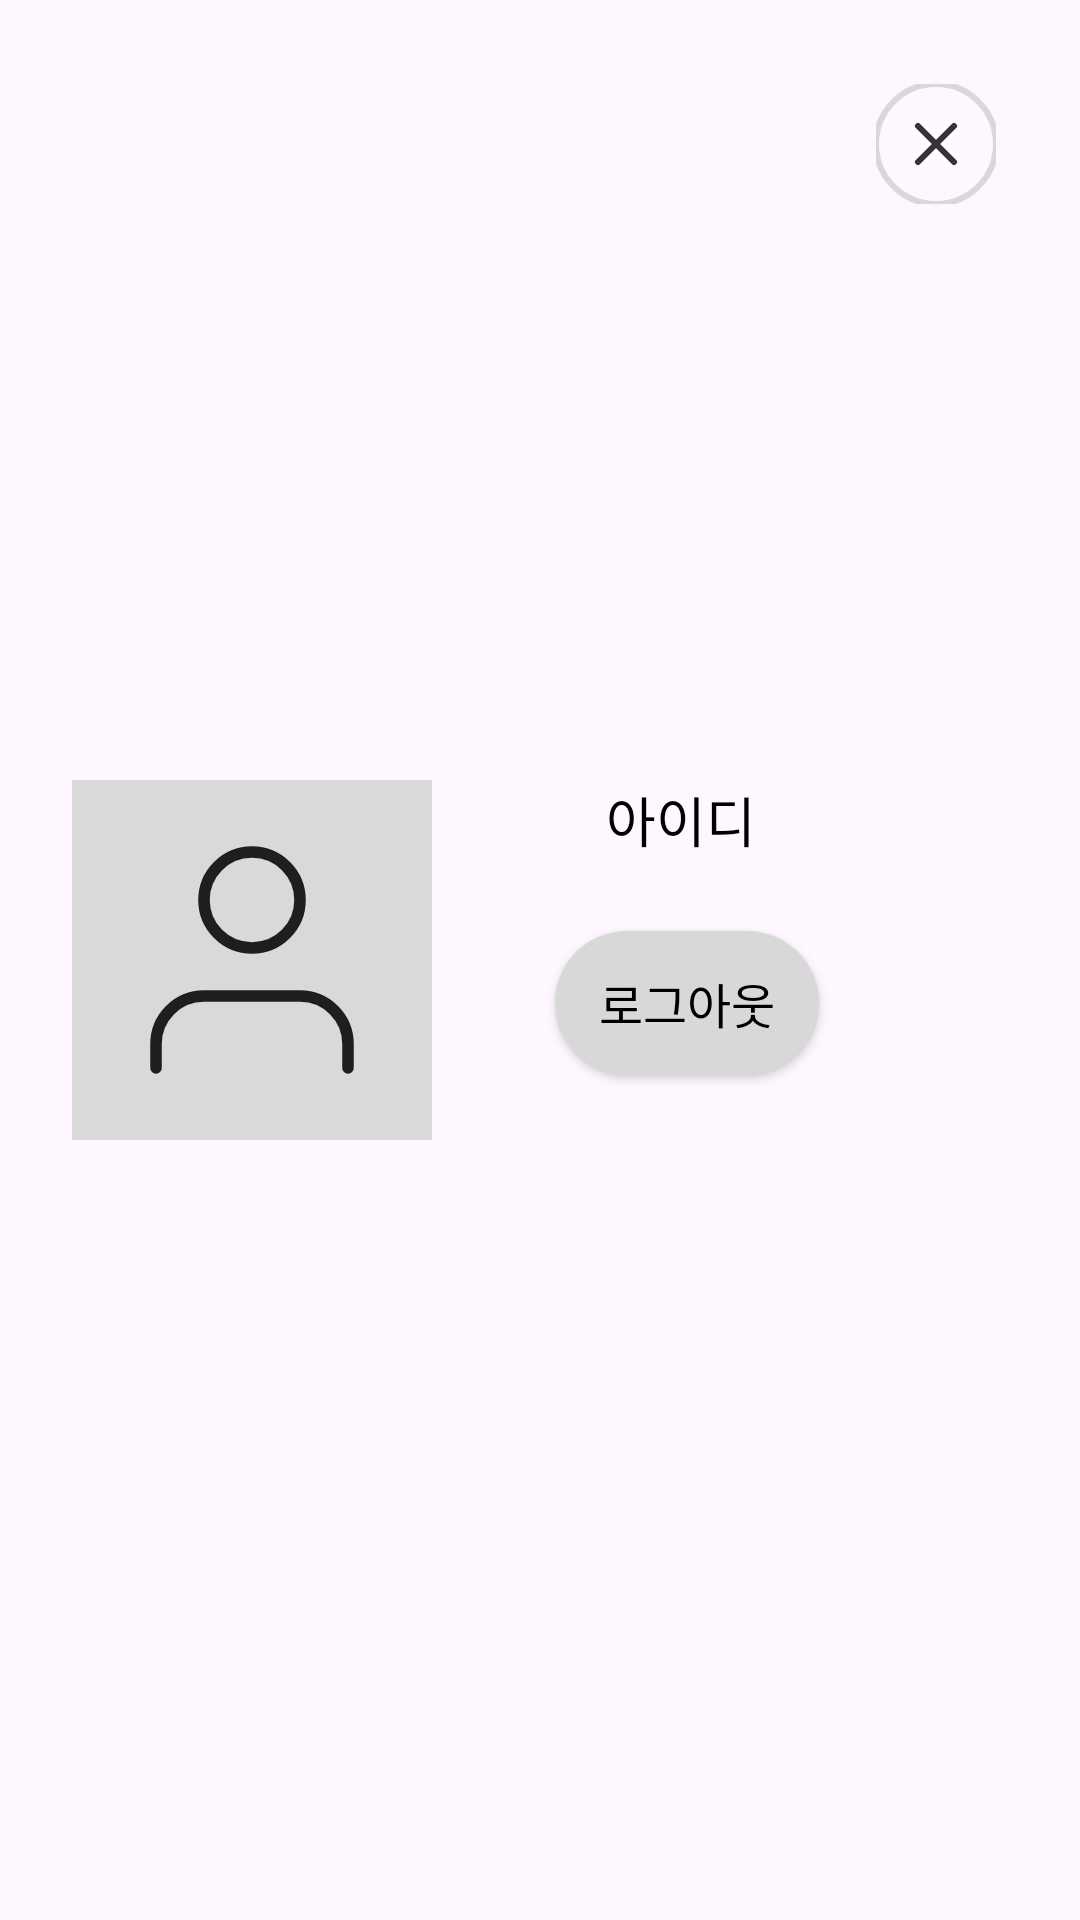

Where icons sit on this 1080 x 1920 app screen, as {"left": x1, "top": y1, "right": x2, "bottom": y2}:
profile: {"left": 72, "top": 780, "right": 432, "bottom": 1140}
